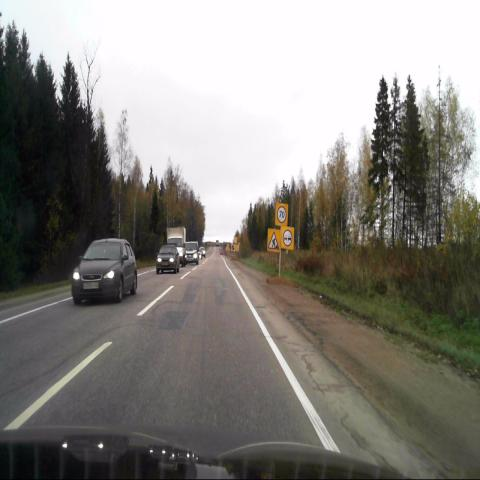1_25: (267, 228, 280, 251)
